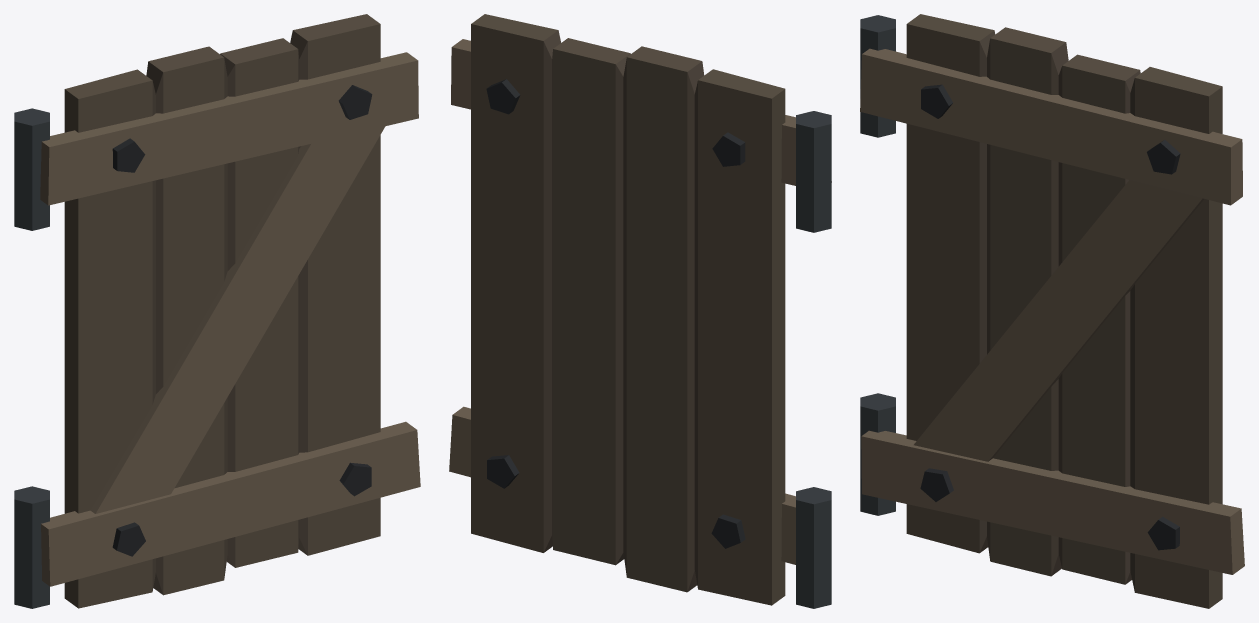
The model's file is SM_Bld_Village_Window_Shutter_01.fbx.
The picture shows the model from 3 angles, left to right: view 1: azimuth 30°, elevation 25°; view 2: azimuth 150°, elevation 25°; view 3: azimuth 330°, elevation 25°; orthographic projection.
Parts seen in each view (by area): view 1: SM_Bld_Village_Window_Shutter_01; view 2: SM_Bld_Village_Window_Shutter_01; view 3: SM_Bld_Village_Window_Shutter_01.
Boxes of the visible parts, x1,y1,x2,y2 form: SM_Bld_Village_Window_Shutter_01: [14, 14, 420, 608]; SM_Bld_Village_Window_Shutter_01: [449, 14, 831, 608]; SM_Bld_Village_Window_Shutter_01: [860, 14, 1244, 608].
Size of the model in its own units: 119 by 153 by 16.52.
